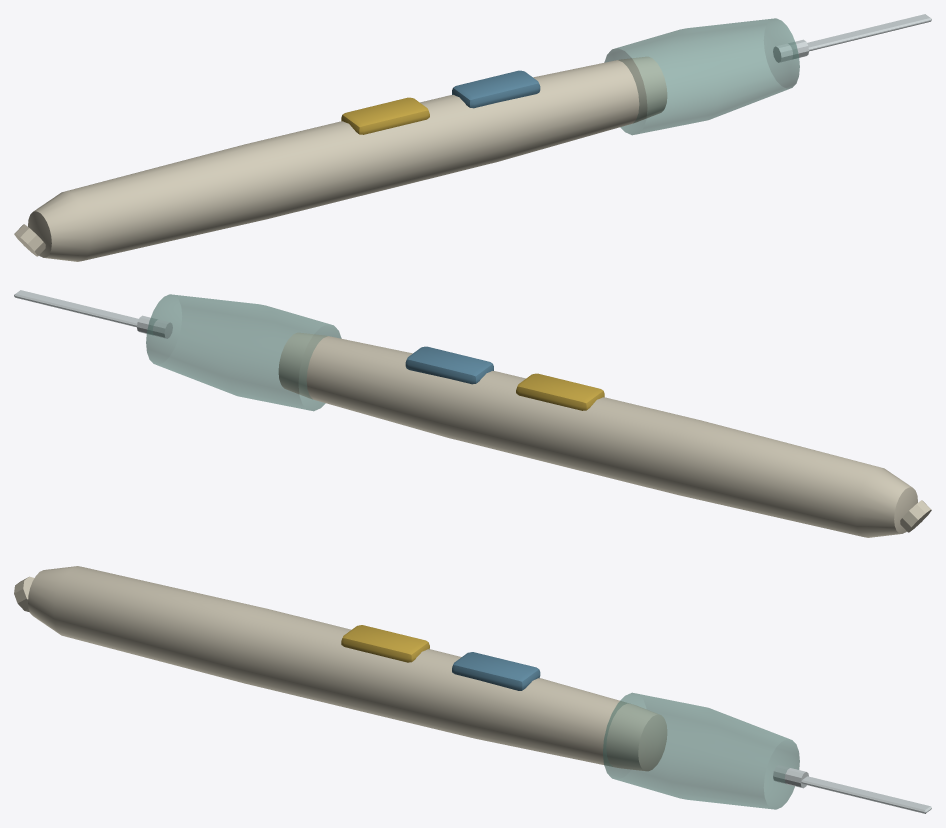
The model's file is sc-esu-pencil.glb.
3 views of the same model, one above another, from view 1: azimuth 30°, elevation 25°; view 2: azimuth 150°, elevation 25°; view 3: azimuth 330°, elevation 25° (orthographic).
Parts seen in each view (by area): view 1: sc-esu-pencil; view 2: sc-esu-pencil; view 3: sc-esu-pencil.
Boxes of the visible parts, x1,y1,x2,y2 form: sc-esu-pencil: (14,14,931,261); sc-esu-pencil: (14,290,931,537); sc-esu-pencil: (14,566,931,813).
Size of the model in its own units: 0.1978 by 0.018 by 0.018.
